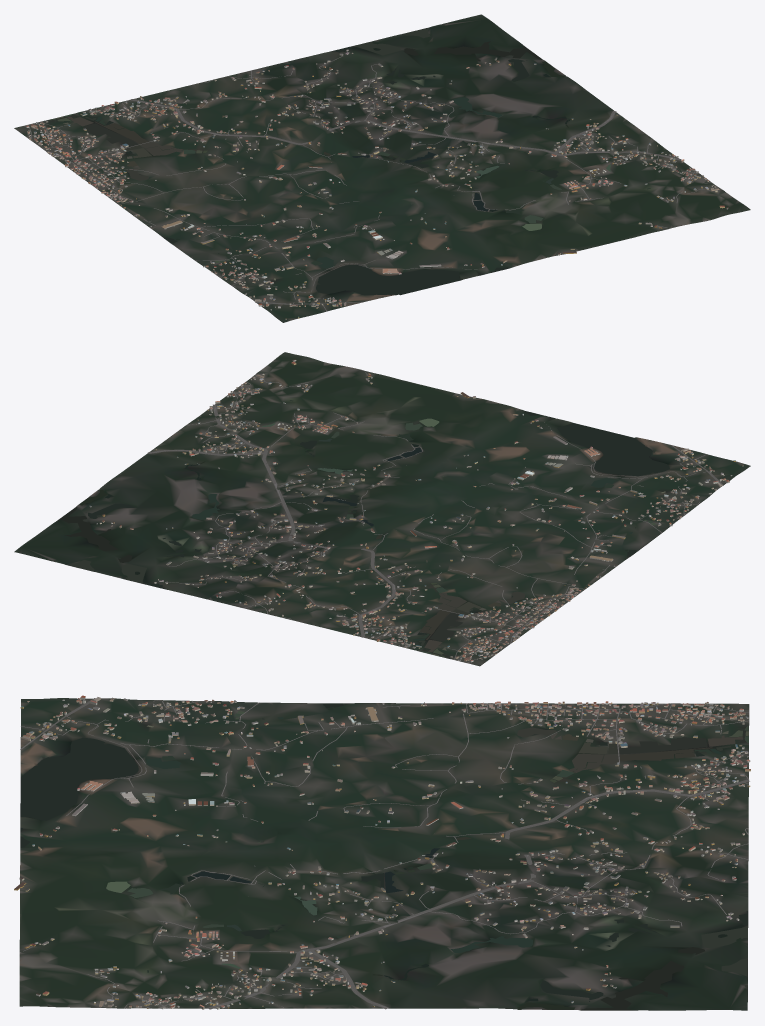
The picture shows the model from 3 angles, top to bottom: view 1: azimuth 30°, elevation 25°; view 2: azimuth 150°, elevation 25°; view 3: azimuth 270°, elevation 25°; orthographic projection. The views are drawn at different scales.
Visible parts, largest first — view 1: ground, buildings, water, roads; view 2: ground, buildings, water, roads; view 3: ground, buildings, water, roads.
Part boxes in pixels (bbox=[...]): ground: bbox=[14, 14, 750, 322]; buildings: bbox=[26, 49, 728, 319]; water: bbox=[48, 23, 650, 295]; roads: bbox=[27, 56, 723, 311]; ground: bbox=[14, 352, 750, 666]; buildings: bbox=[89, 359, 743, 662]; water: bbox=[49, 400, 669, 657]; roads: bbox=[148, 370, 723, 663]; ground: bbox=[19, 698, 749, 1010]; buildings: bbox=[14, 695, 750, 1009]; water: bbox=[20, 703, 748, 1010]; roads: bbox=[20, 698, 749, 1009].
Size of the model in its own units: 2817 by 43.82 by 2837.
